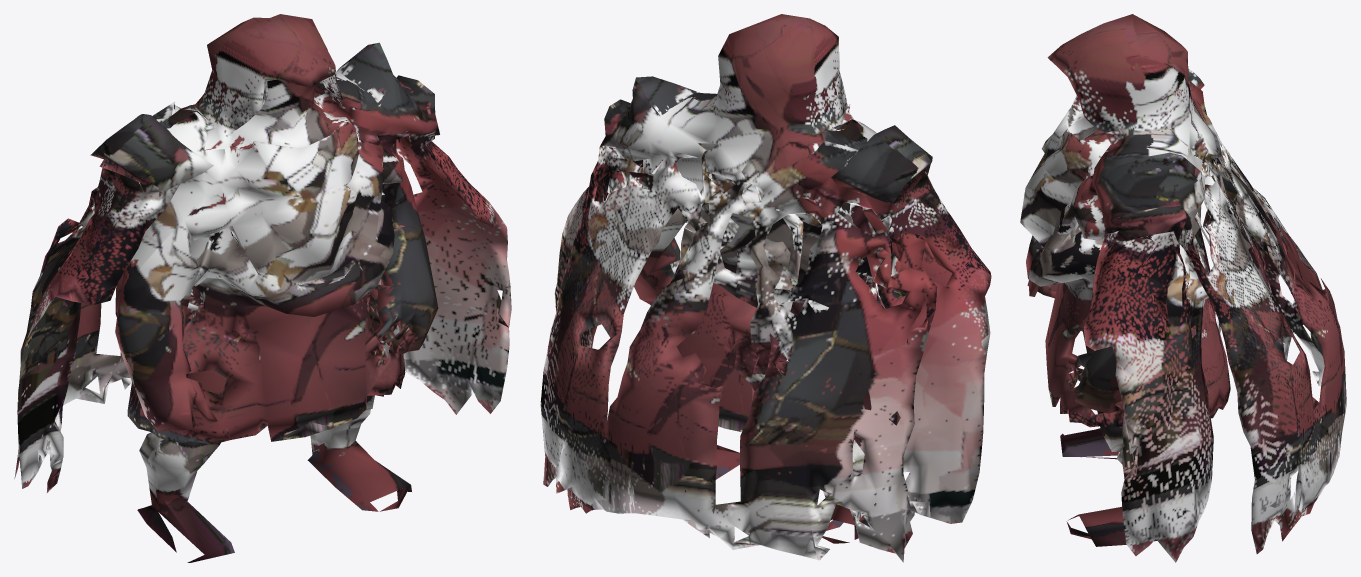
Rendered from cinder_cantor.glb.
3 views of the same model, side by side, from view 1: azimuth 30°, elevation 25°; view 2: azimuth 150°, elevation 25°; view 3: azimuth 270°, elevation 25° (orthographic). The views are drawn at different scales.
Parts seen in each view (by area): view 1: LP_baked; view 2: LP_baked; view 3: LP_baked.
Part boxes in pixels (x1,y1,x2,y2): LP_baked: (14,14,511,562); LP_baked: (540,14,991,562); LP_baked: (1020,14,1346,562).
Bounding box in the file's own units: 1.94 × 1.96 × 1.24.
1 material, 1 textured.
